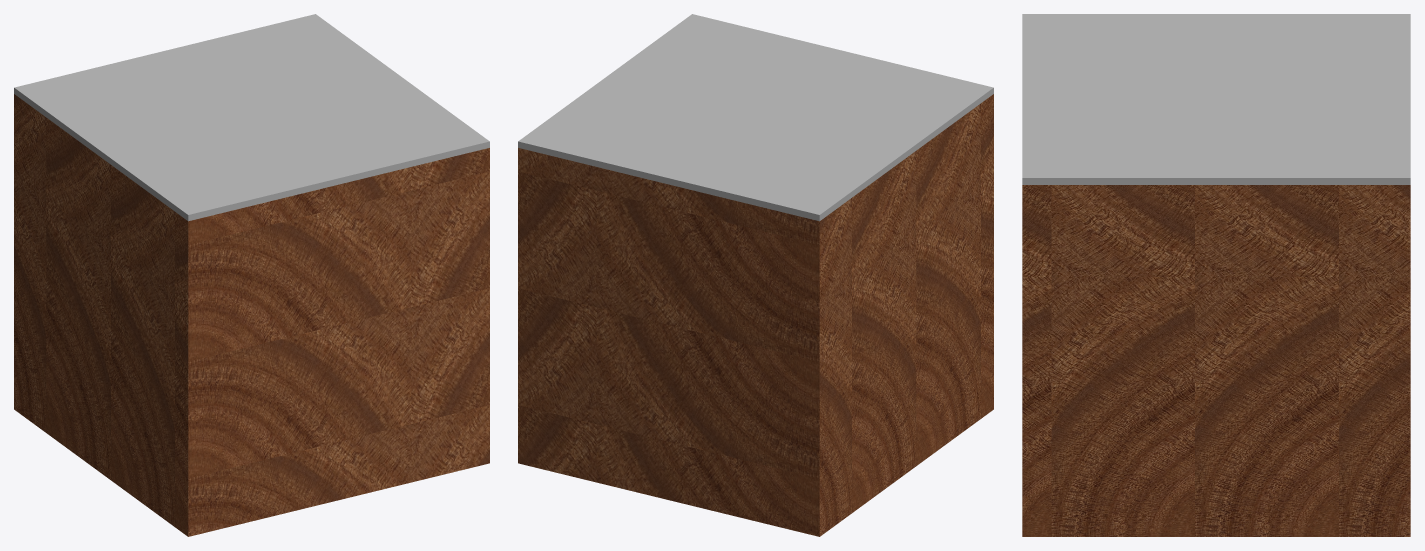
The model's file is banana_box.glb.
3 views of the same model, side by side, from view 1: azimuth 30°, elevation 25°; view 2: azimuth 150°, elevation 25°; view 3: azimuth 270°, elevation 25° (orthographic). The views are drawn at different scales.
Visible parts, largest first — view 1: test_banana_object.prt-1, box_lid.prt-1; view 2: test_banana_object.prt-1, box_lid.prt-1; view 3: test_banana_object.prt-1, box_lid.prt-1.
Part boxes in pixels (box(x1,y1,x2,y2)): test_banana_object.prt-1: box(14, 94, 489, 536); box_lid.prt-1: box(14, 14, 489, 221); test_banana_object.prt-1: box(518, 94, 993, 536); box_lid.prt-1: box(518, 14, 993, 221); test_banana_object.prt-1: box(1022, 185, 1410, 536); box_lid.prt-1: box(1022, 14, 1410, 184).
Bounding box in the file's own units: 0.5 × 0.51 × 0.5.
3 materials, 1 textured.
